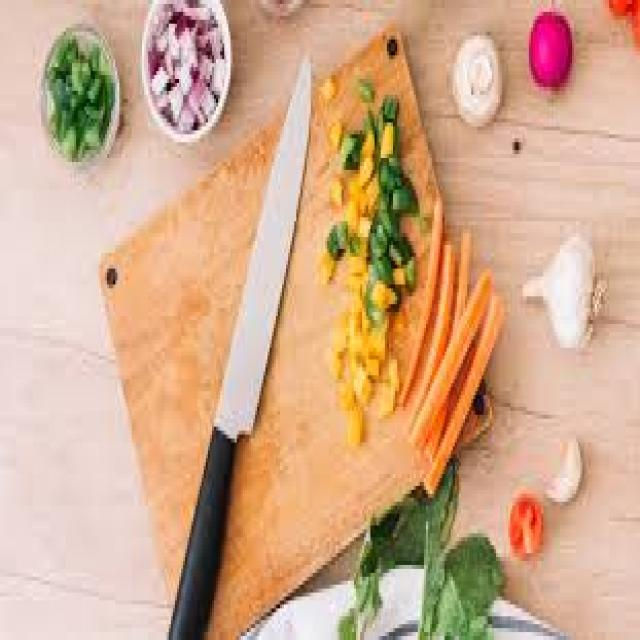Knife: (169, 55, 311, 636)
